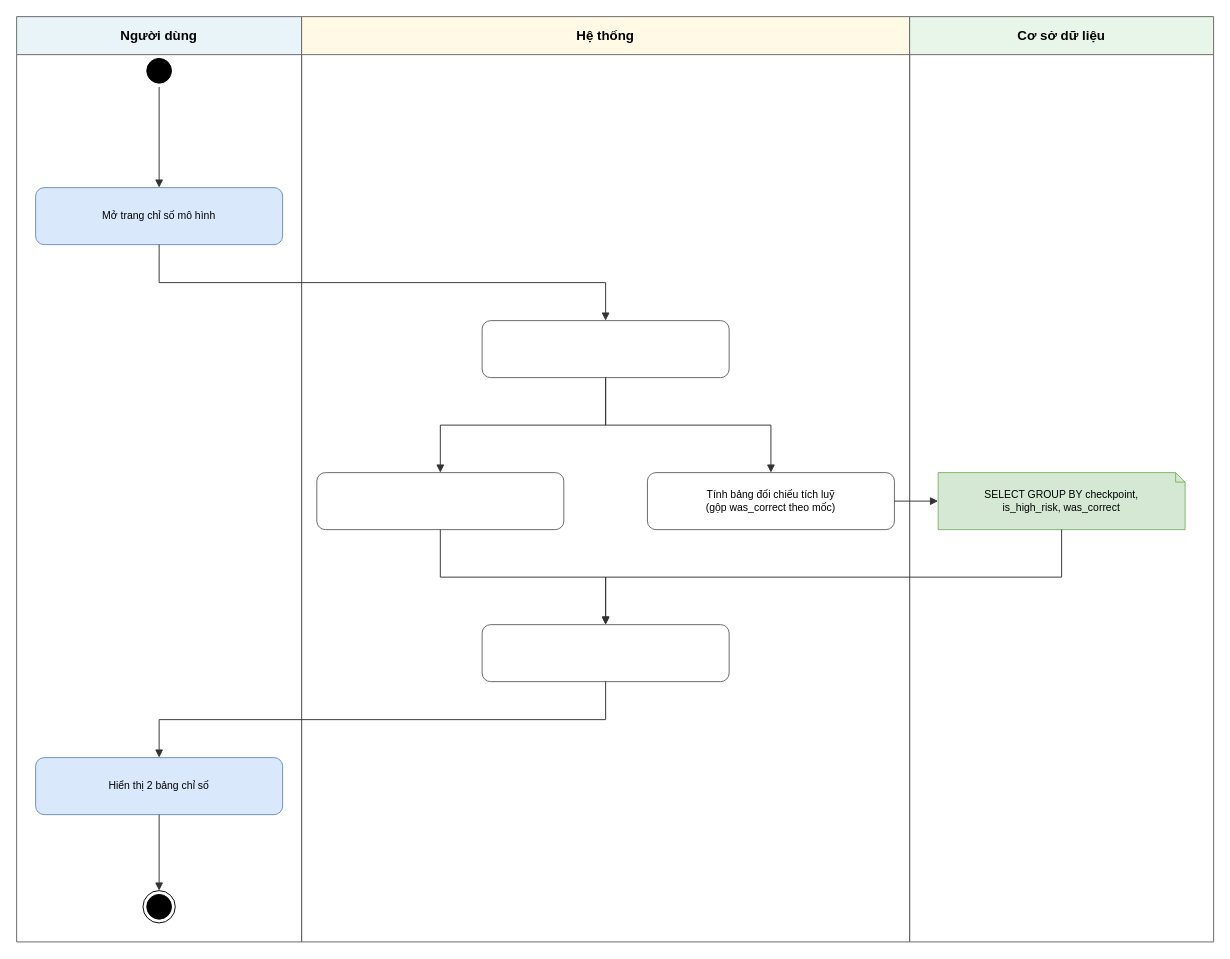
This 1230x959 diagram has some shape labels left out. Here are the shapes that lost their labels. From the top down, the box of each, then its label:
(481, 320, 729, 378): Nhận yêu cầu
(316, 472, 564, 530): Đọc báo cáo huấn luyện gần nhất từ tệp tĩnh (trained=false nếu chưa có)
(481, 624, 729, 682): Trả báo cáo huấn luyện + bảng đối chiếu
